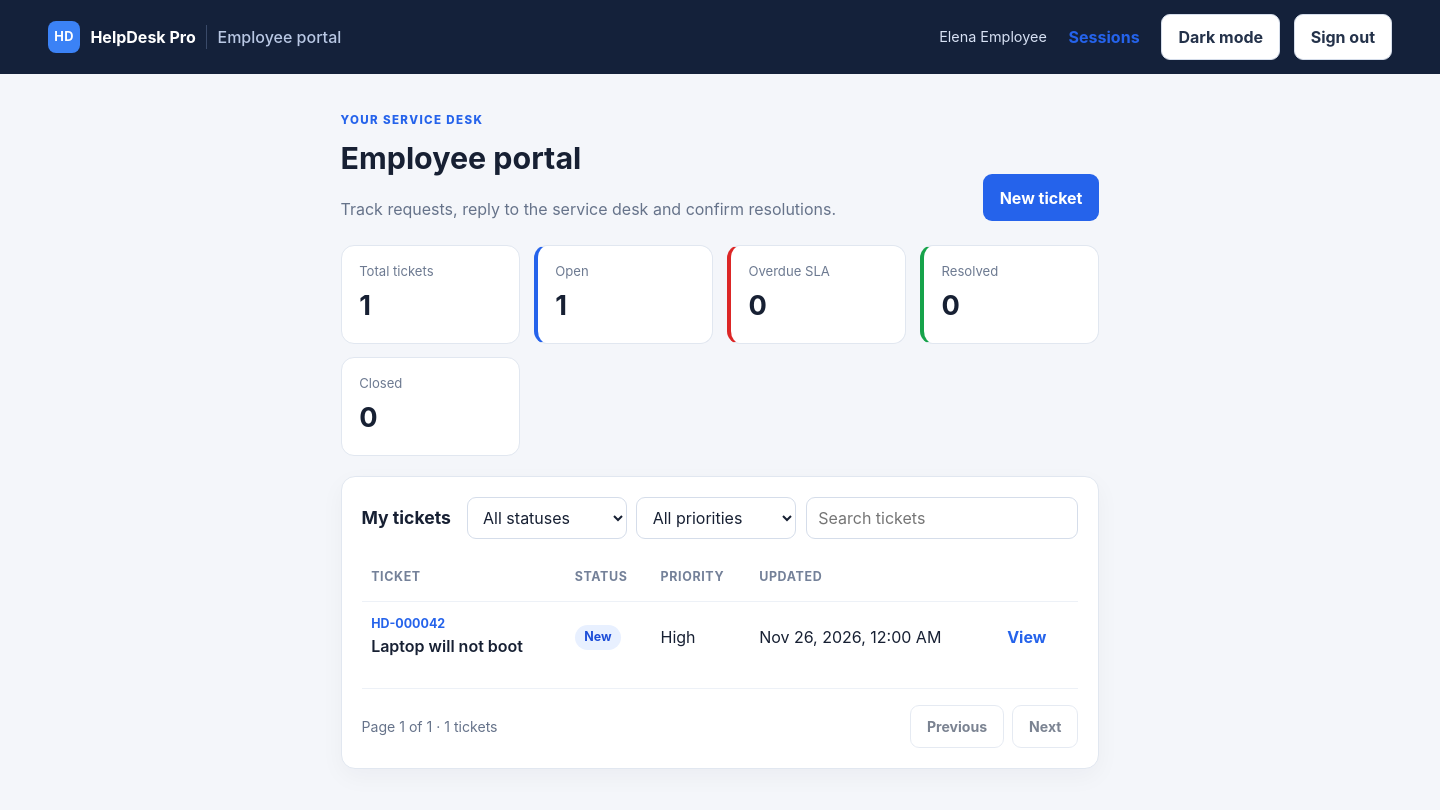
Test: employee portal › never renders internal comments in the employee portal
expect the text "HD-000042" is shown: met, box [371,616,445,631]
Click the button "View" at (1027, 637), box [999,619,1055,654]
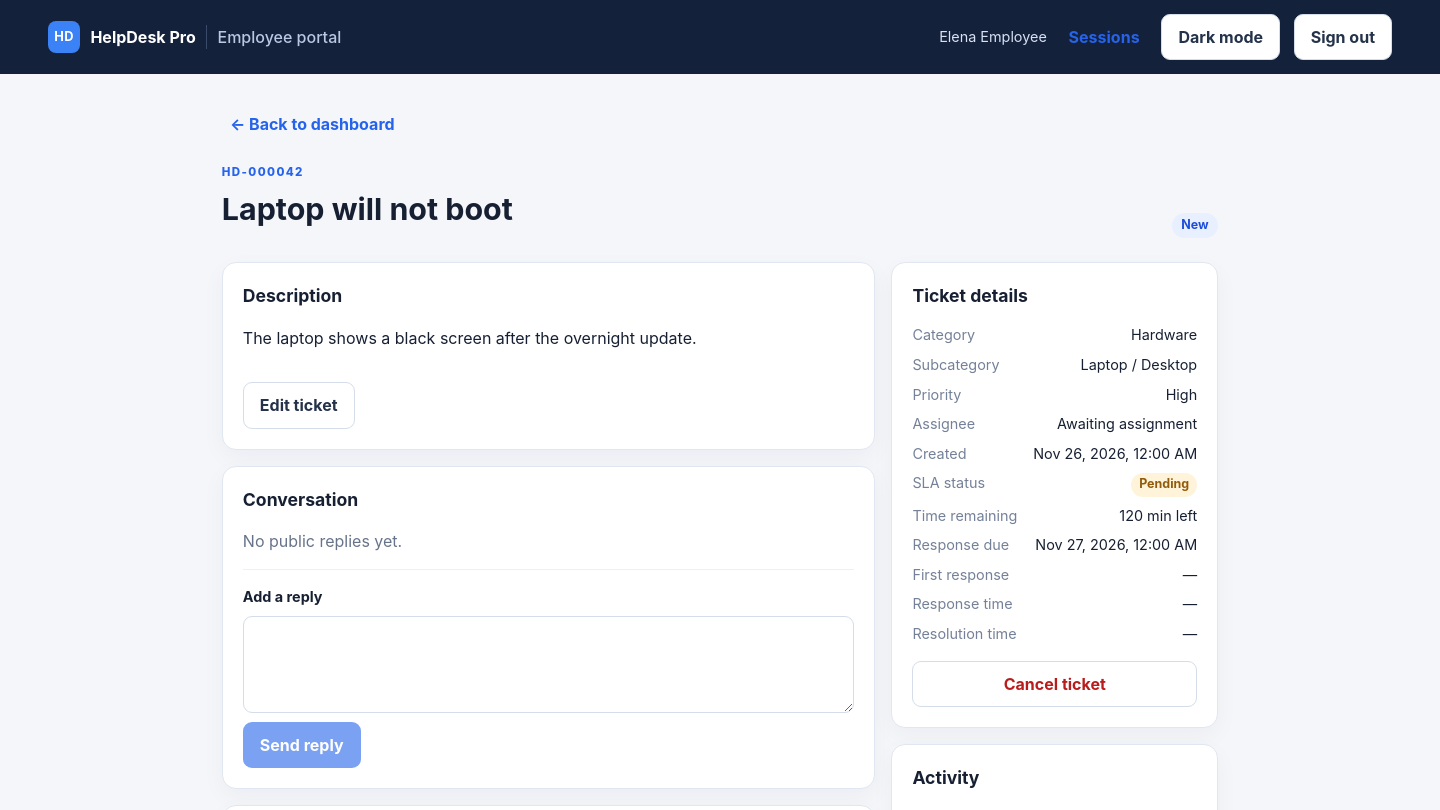
expect the heading "Laptop will not boot" is shown: met, box [222,187,513,233]
